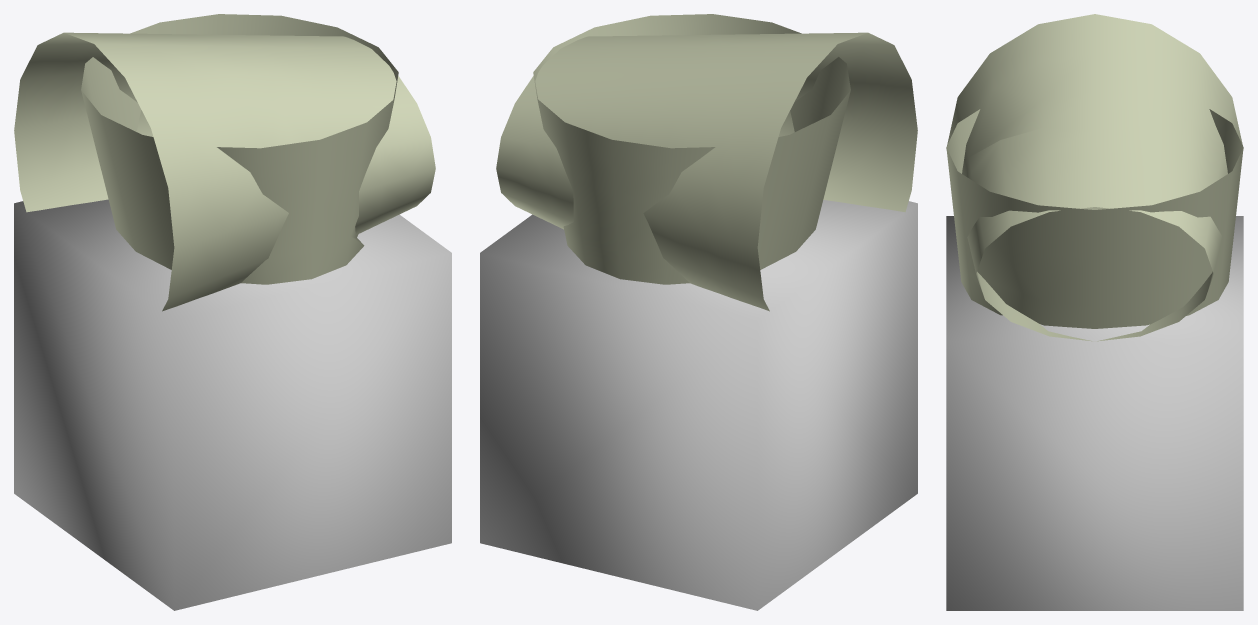
Rendered from CutterT4-Manchon.obj.
3 renders of one model, left to right at view 1: azimuth 30°, elevation 25°; view 2: azimuth 150°, elevation 25°; view 3: azimuth 270°, elevation 25°, orthographic. The views are drawn at different scales.
Parts seen in each view (by area): view 1: Cube3, Manchon, ManchonVert; view 2: Cube3, Manchon, ManchonVert; view 3: Cube3, Manchon, ManchonVert.
Boxes of the visible parts, x1,y1,x2,y2 form: Cube3: (14, 199, 451, 610); Manchon: (14, 32, 435, 311); ManchonVert: (81, 14, 398, 284); Cube3: (480, 200, 917, 610); Manchon: (496, 32, 917, 311); ManchonVert: (533, 14, 850, 284); Cube3: (946, 216, 1243, 610); Manchon: (946, 14, 1243, 341); ManchonVert: (946, 109, 1243, 328).
Size of the model in its own units: 2.05 by 3.5 by 2.
